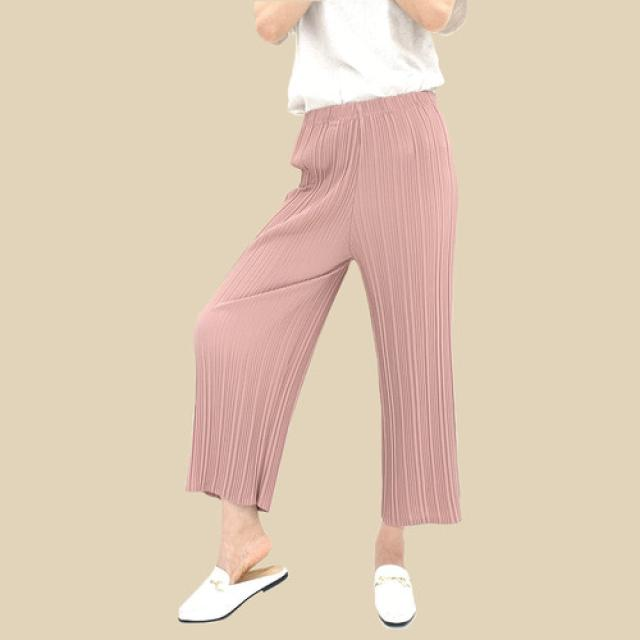pants: (183, 83, 473, 533)
